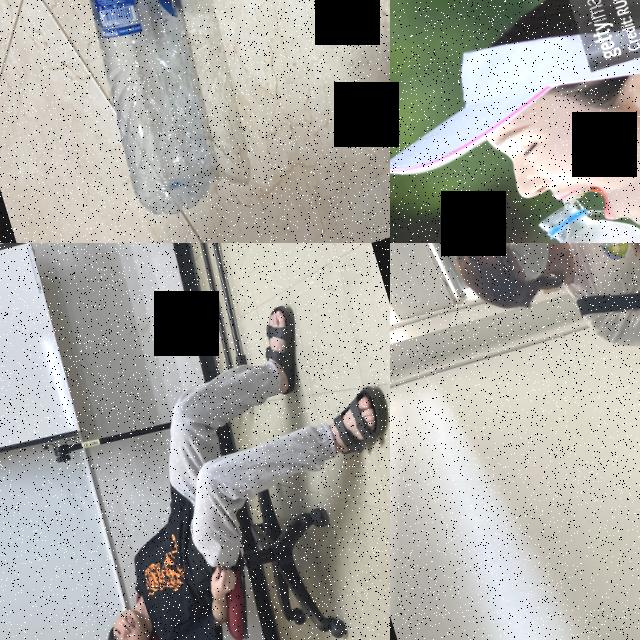bottle: (18, 0, 243, 222)
